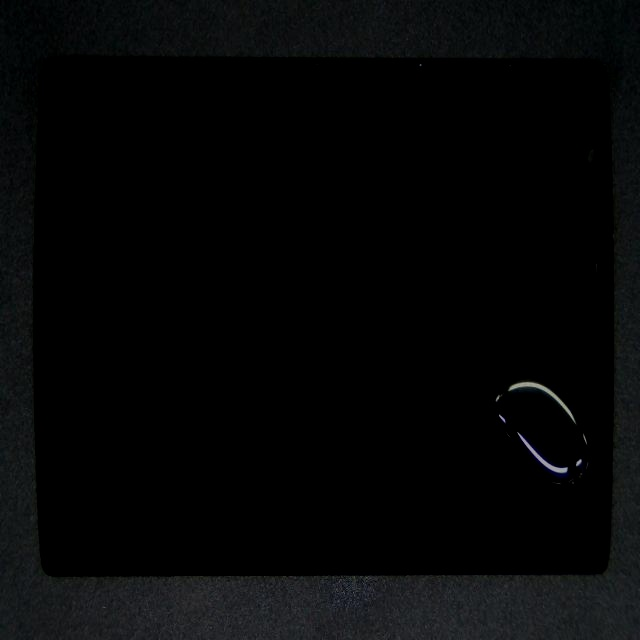oil: (199, 139, 640, 640)
